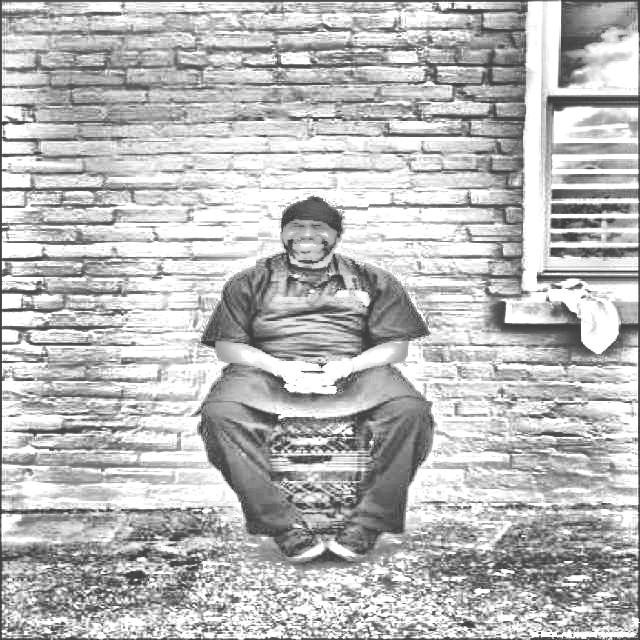happy: (258, 191, 368, 275)
